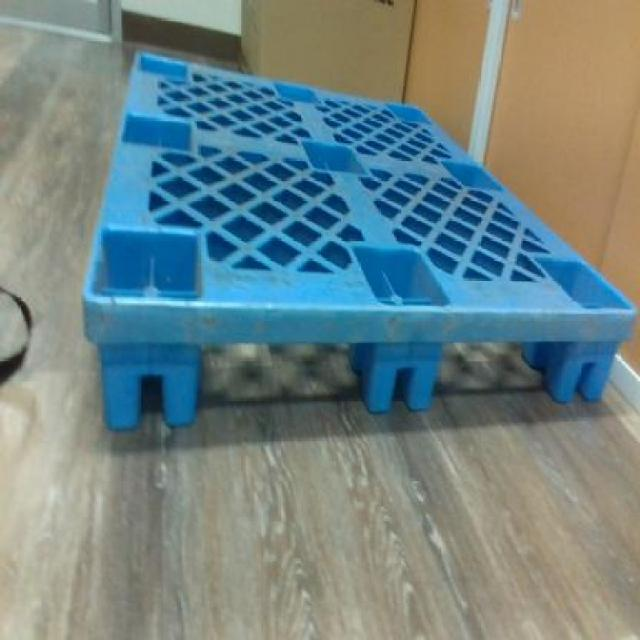block: (95, 342, 208, 430), (368, 339, 450, 417), (555, 341, 629, 411)
front: (78, 298, 640, 430)
